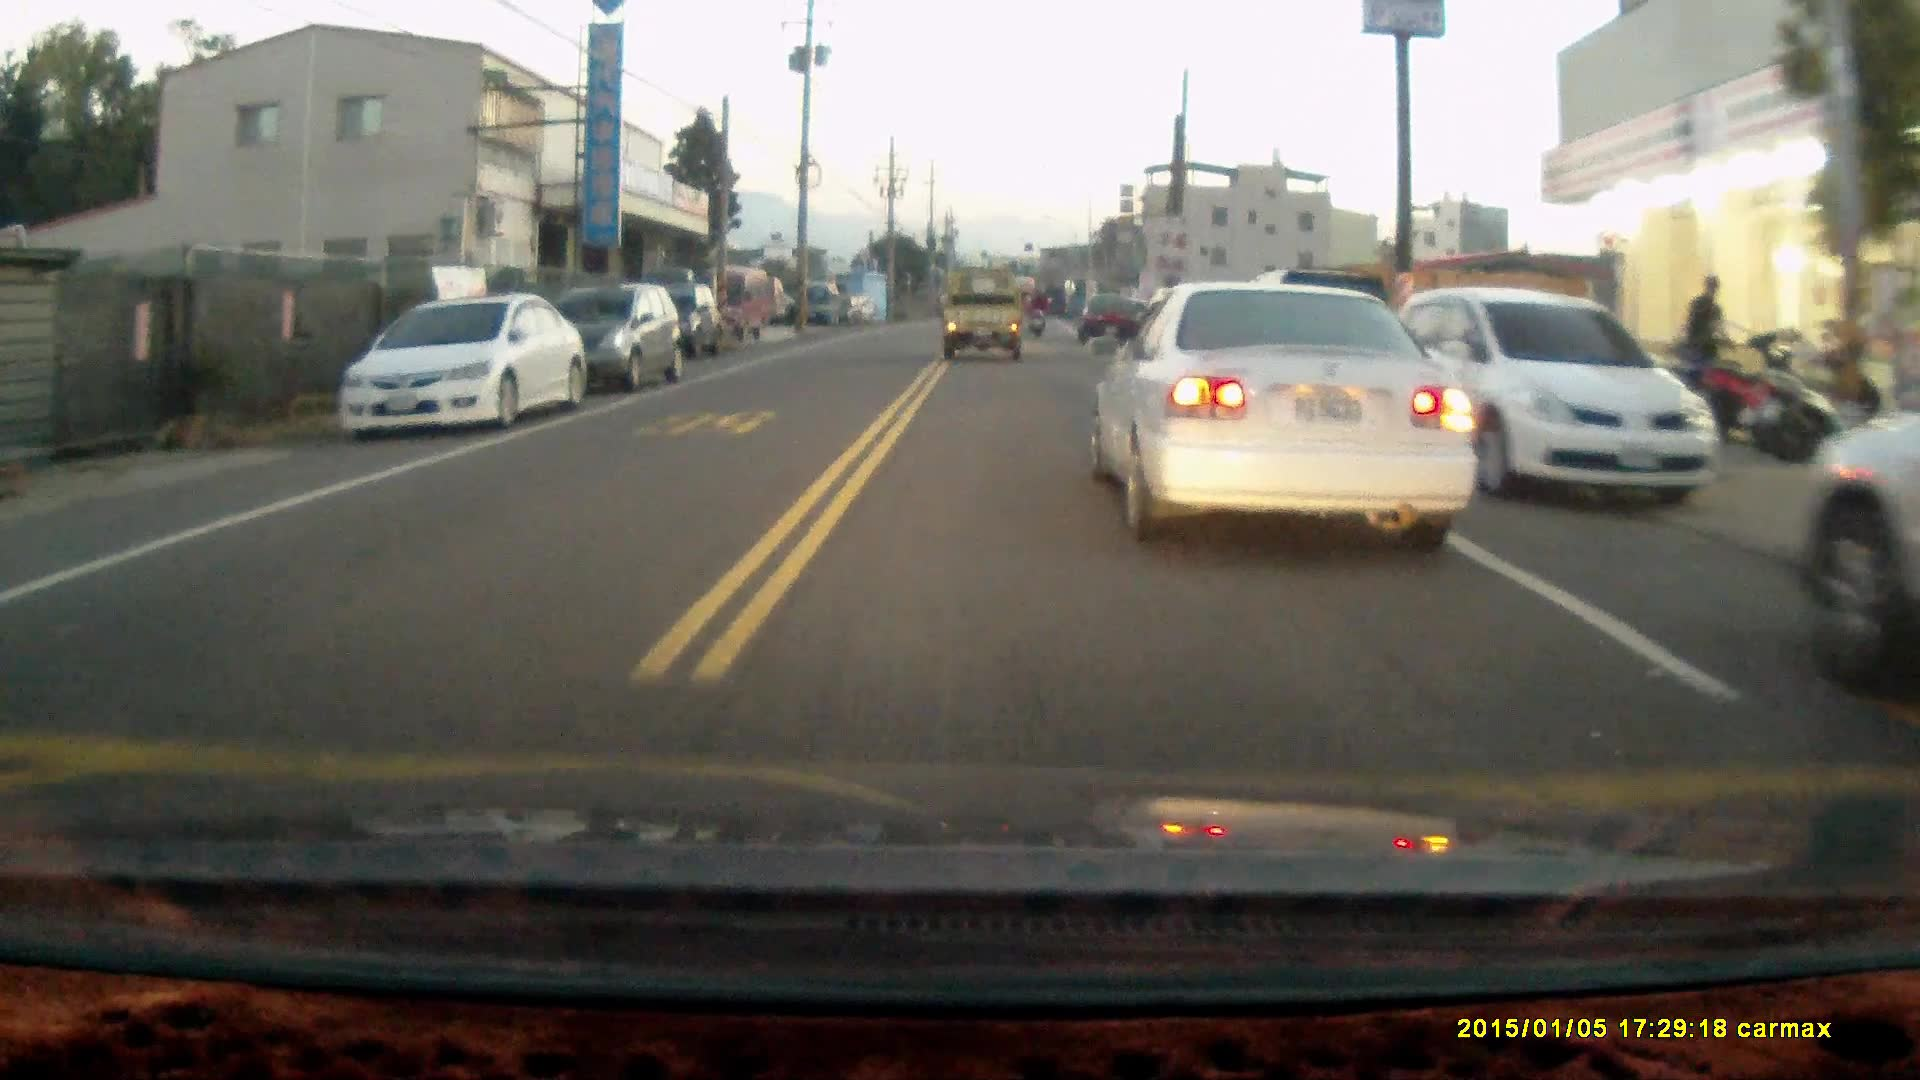pedestrian: (1684, 273, 1731, 388)
rider: (1023, 287, 1049, 335)
vehicle: (1094, 284, 1480, 554), (1385, 291, 1725, 514), (1784, 403, 1920, 697), (336, 294, 588, 443), (523, 288, 685, 401), (624, 282, 729, 365), (944, 272, 1031, 370), (696, 266, 774, 344), (1081, 292, 1143, 344)
